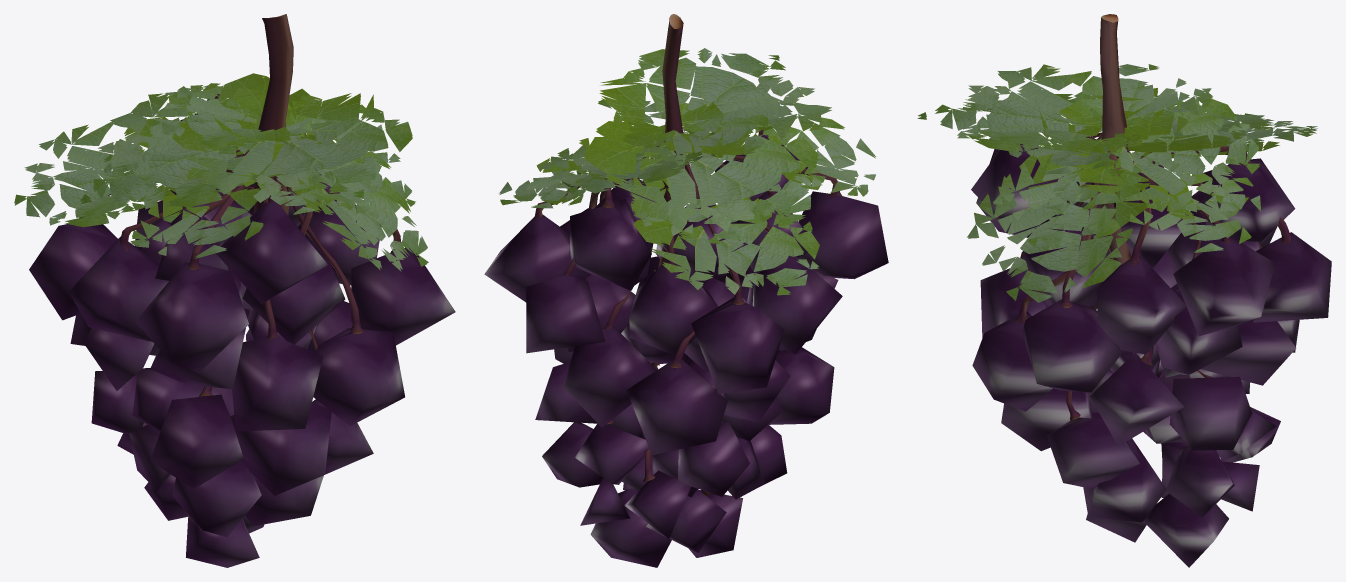
Rendered from grapes_bunch.glb.
3 views of the same model, side by side, from view 1: azimuth 30°, elevation 25°; view 2: azimuth 150°, elevation 25°; view 3: azimuth 270°, elevation 25° (orthographic). The views are drawn at different scales.
Parts seen in each view (by area): view 1: Material-material, Material_002-material.001, Material_002-material, Material_001-material; view 2: Material-material, Material_002-material.001, Material_002-material, Material_001-material, Material_002-material.002; view 3: Material-material, Material_002-material.001, Material_002-material, Material_001-material, Material_002-material.002.
Part boxes in pixels (box(x1,y1,x2,y2)): Material-material: box(29, 114, 455, 567); Material_002-material.001: box(63, 73, 415, 218); Material_002-material: box(14, 85, 428, 271); Material_001-material: box(79, 14, 404, 396); Material-material: box(484, 135, 888, 567); Material_002-material.001: box(527, 48, 831, 272); Material_002-material: box(539, 100, 875, 295); Material_001-material: box(534, 14, 841, 495); Material_002-material.002: box(499, 153, 595, 208); Material-material: box(971, 138, 1331, 567); Material_002-material.001: box(917, 64, 1274, 248); Material_002-material: box(963, 98, 1317, 302); Material_001-material: box(1016, 14, 1290, 420); Material_002-material.002: box(1129, 184, 1260, 252).
Bounding box in the file's own units: 5.29 × 8.34 × 5.75.
Materials: 3 (3 with a texture image).
